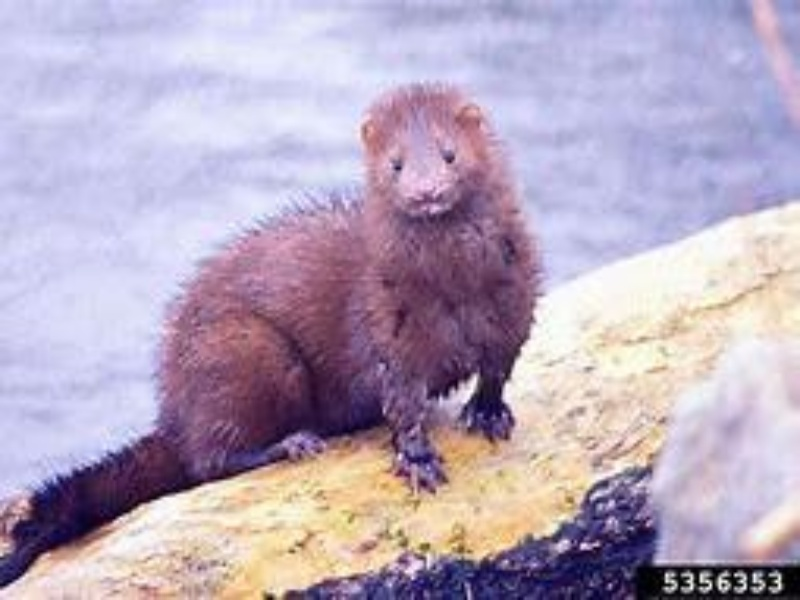minkish: (7, 76, 545, 572)
